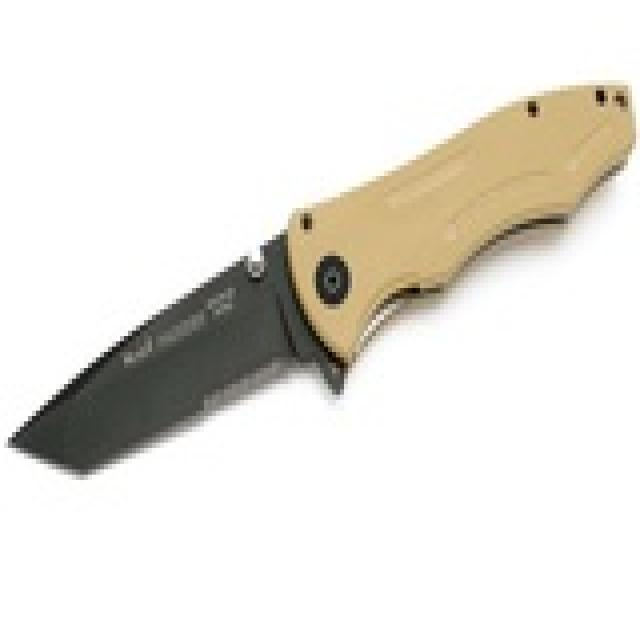Knife: (8, 49, 638, 513)
